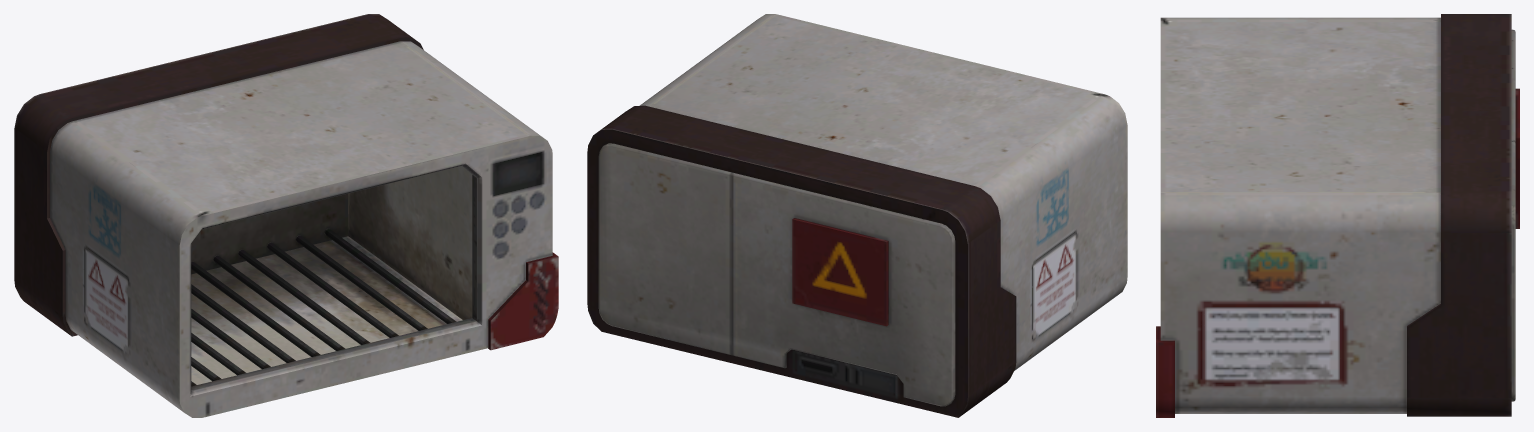
Rendered from portableoven.dae.
3 renders of one model, left to right at view 1: azimuth 30°, elevation 25°; view 2: azimuth 150°, elevation 25°; view 3: azimuth 270°, elevation 25°, orthographic. The views are drawn at different scales.
Visible parts, largest first — view 1: polySurface20; view 2: polySurface20; view 3: polySurface20.
Boxes of the visible parts, x1=… form: polySurface20: x1=14, y1=14, x2=558, y2=417; polySurface20: x1=587, y1=14, x2=1127, y2=417; polySurface20: x1=1156, y1=14, x2=1519, y2=417.
Size of the model in its own units: 0.7422 by 0.3845 by 0.5691.
